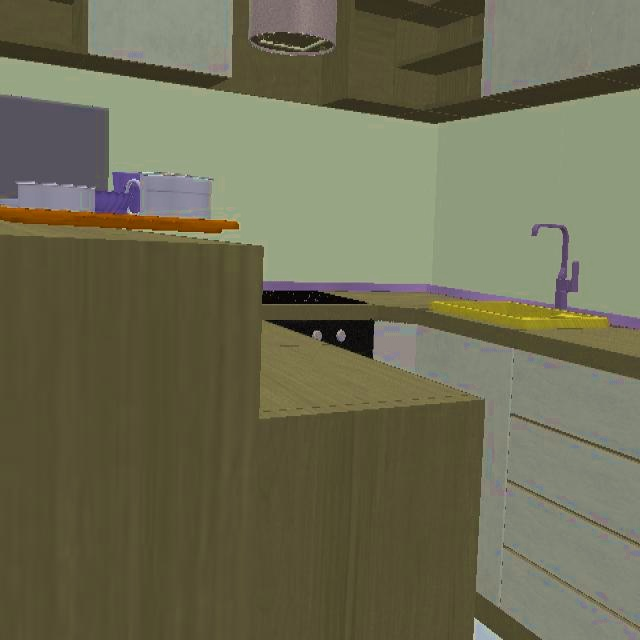countertop: (261, 292, 640, 419)
microwave: (0, 96, 111, 196)
oven: (286, 321, 378, 361)
shelf: (339, 0, 640, 112)
sink: (427, 300, 622, 329)
stove: (263, 285, 364, 313)
